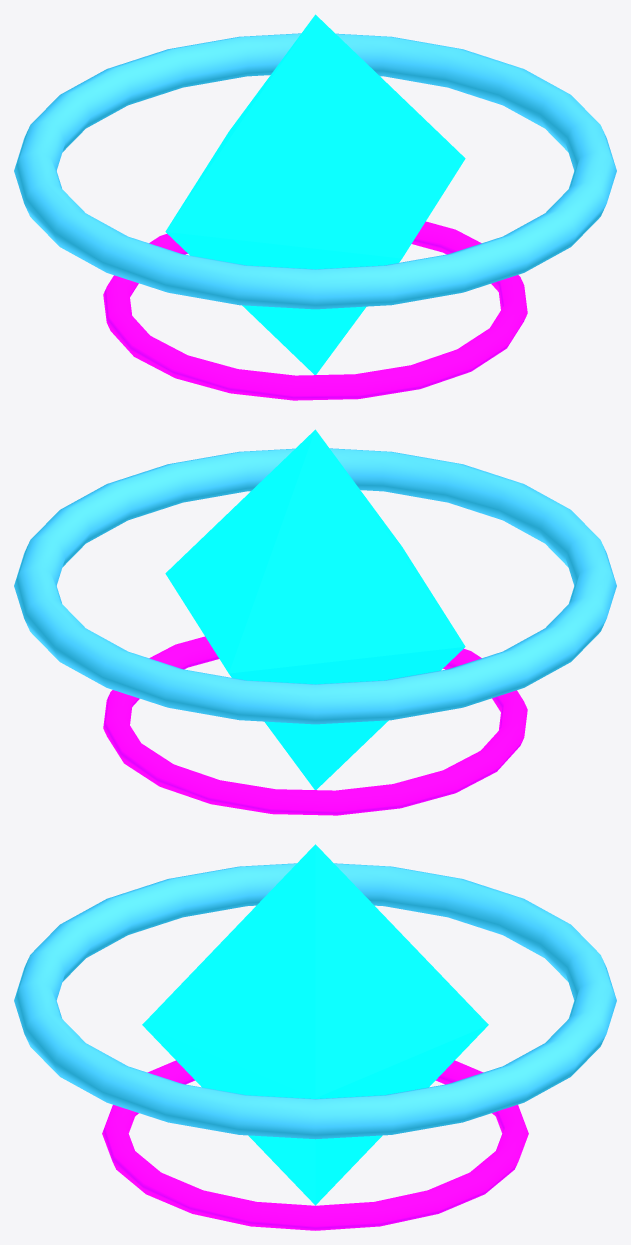
Rendered from companion-drone.glb.
3 views of the same model, one above another, from view 1: azimuth 30°, elevation 25°; view 2: azimuth 150°, elevation 25°; view 3: azimuth 270°, elevation 25° (orthographic).
Parts seen in each view (by area): view 1: companion-halo-ring, companion-core, companion-stabilizer-ring; view 2: companion-halo-ring, companion-core, companion-stabilizer-ring; view 3: companion-core, companion-halo-ring, companion-stabilizer-ring.
Part boxes in pixels (box(x1,y1,x2,y2)): companion-halo-ring: box(14, 33, 616, 309); companion-core: box(165, 14, 465, 374); companion-stabilizer-ring: box(103, 221, 527, 400); companion-halo-ring: box(14, 448, 616, 724); companion-core: box(165, 429, 465, 789); companion-stabilizer-ring: box(103, 636, 527, 815); companion-core: box(142, 844, 488, 1205); companion-halo-ring: box(14, 863, 616, 1139); companion-stabilizer-ring: box(102, 1060, 528, 1230).
Size of the model in its own units: 0.226 by 0.1495 by 0.226.
